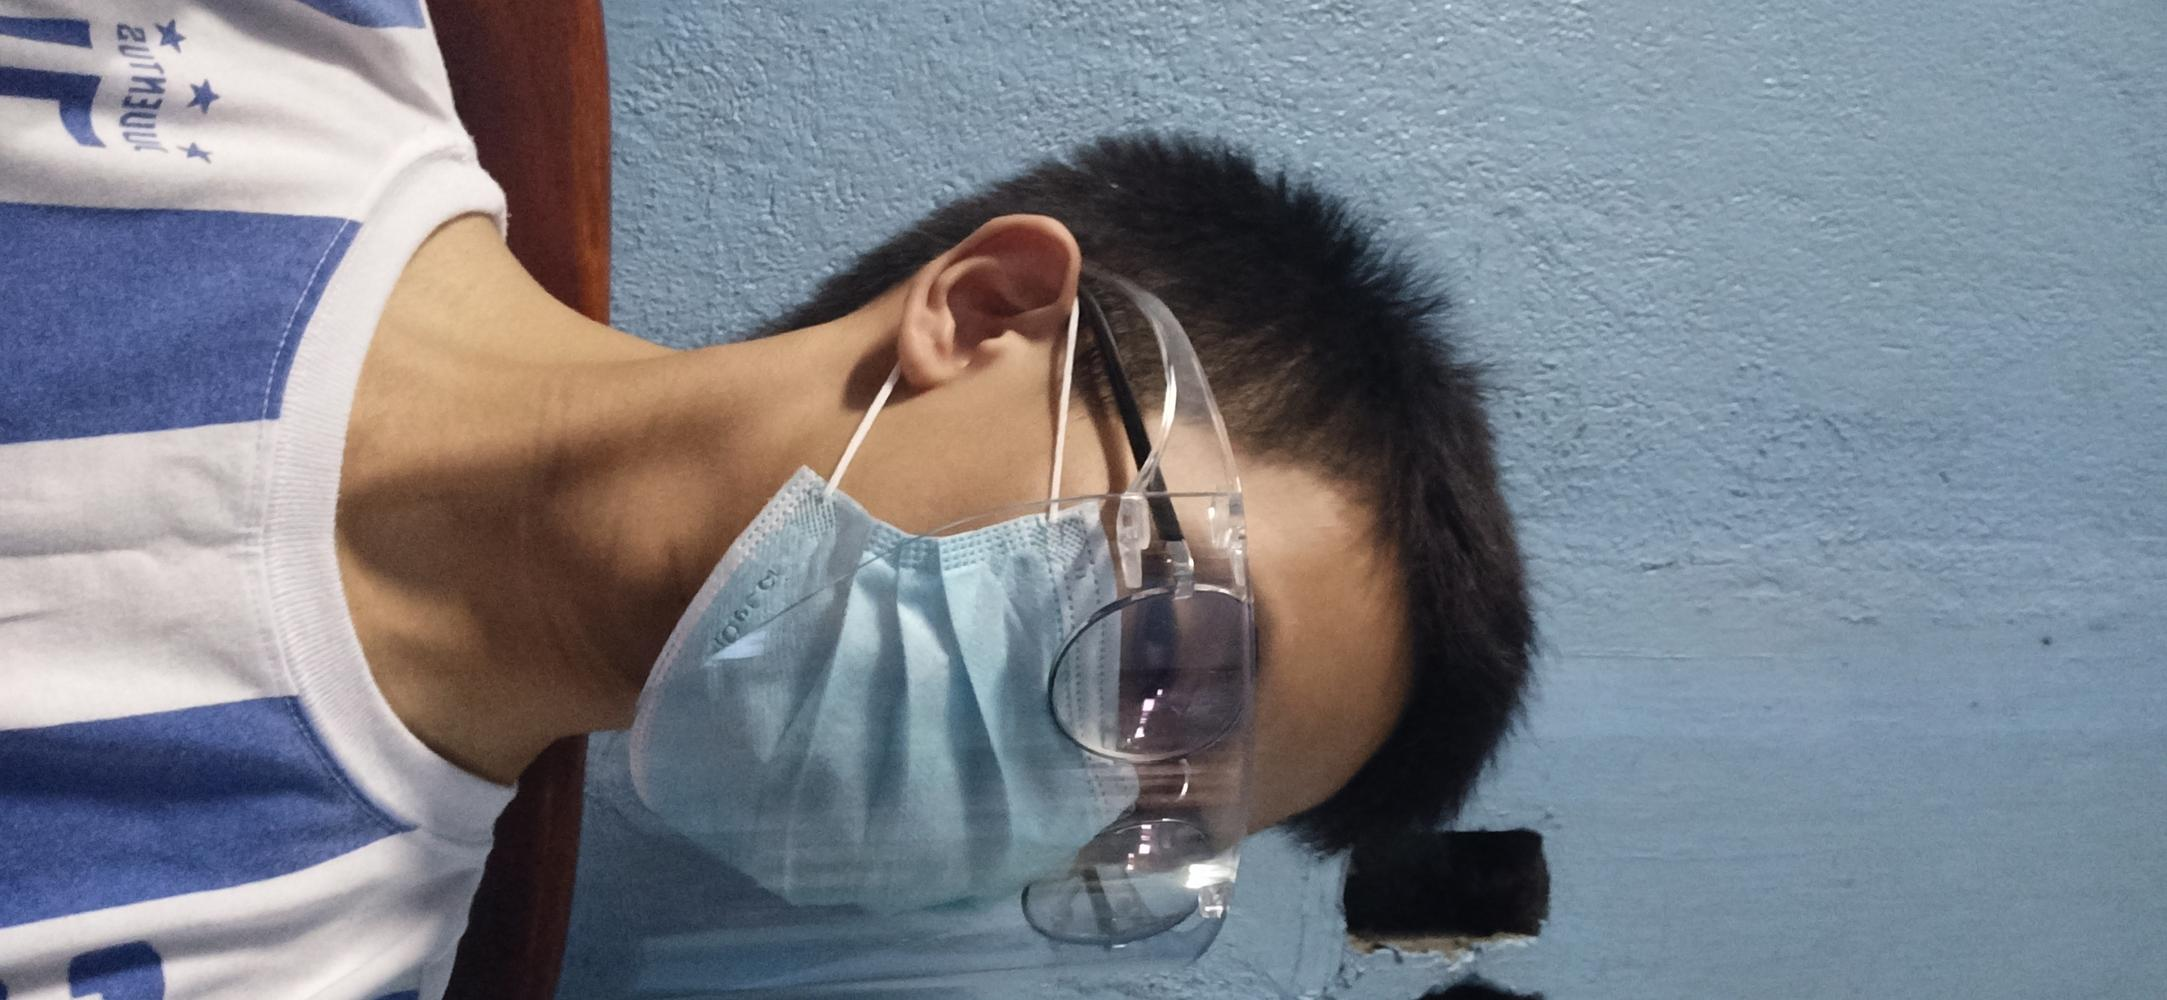Face Shield: (625, 361, 1361, 950)
Facemask: (582, 419, 1151, 919)
Undefined Object: (1049, 527, 1280, 954)
